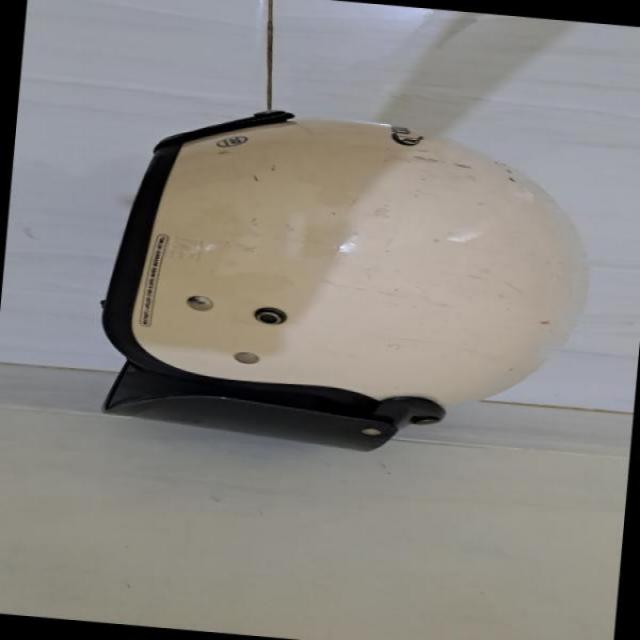Helmet: (93, 102, 572, 462)
